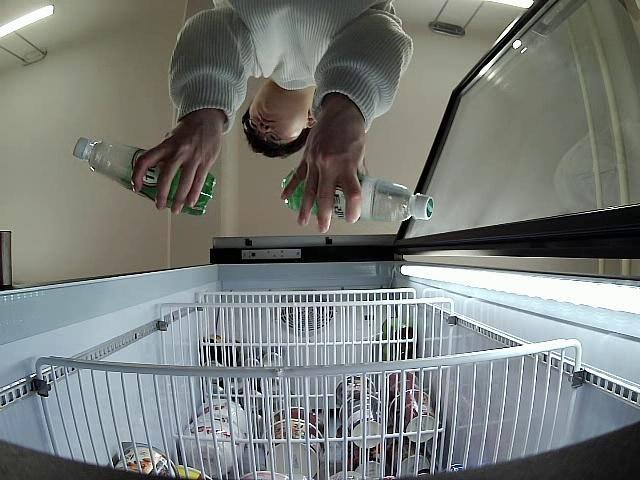18_trevi: (73, 136, 212, 214), (282, 166, 433, 226)
